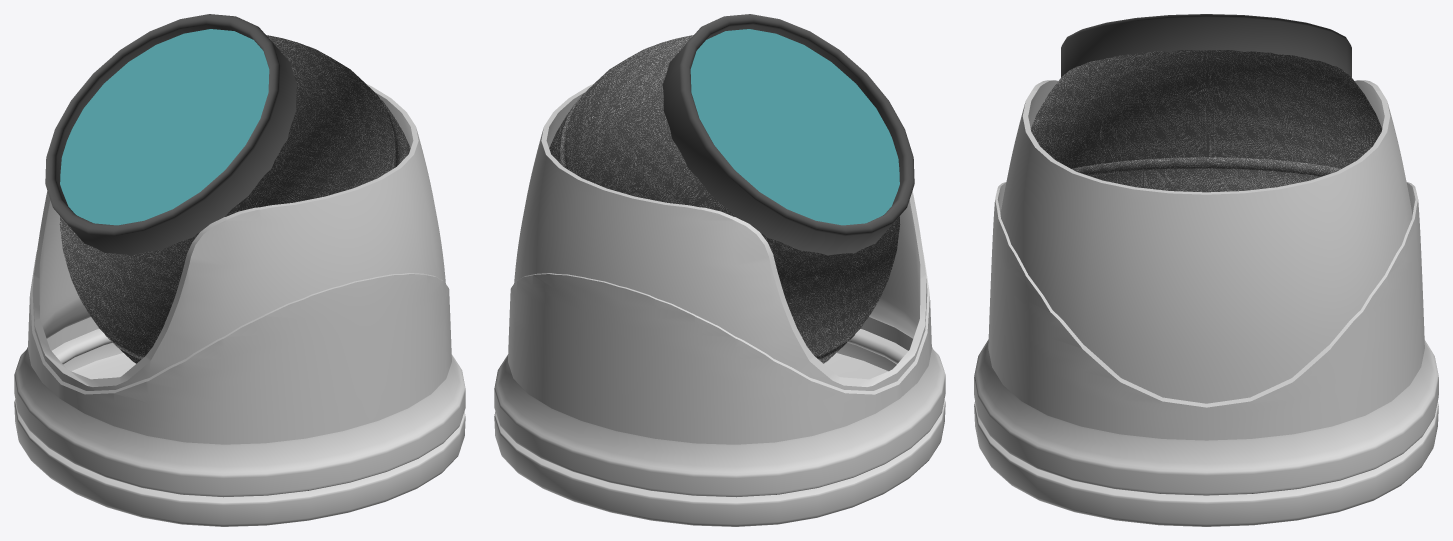
The model's file is Camera_1.fbx.
3 views of the same model, side by side, from view 1: azimuth 30°, elevation 25°; view 2: azimuth 150°, elevation 25°; view 3: azimuth 270°, elevation 25° (orthographic). The views are drawn at different scales.
Parts seen in each view (by area): view 1: Camera_1_1_LOD0, Camera_1_2_LOD0, Camera_1_flip_LOD0; view 2: Camera_1_1_LOD0, Camera_1_2_LOD0, Camera_1_flip_LOD0; view 3: Camera_1_1_LOD0, Camera_1_2_LOD0, Camera_1_flip_LOD0.
Boxes of the visible parts, x1,y1,x2,y2 form: Camera_1_1_LOD0: [14, 84, 465, 526]; Camera_1_2_LOD0: [45, 14, 410, 363]; Camera_1_flip_LOD0: [60, 37, 410, 361]; Camera_1_1_LOD0: [494, 84, 945, 526]; Camera_1_2_LOD0: [549, 14, 914, 363]; Camera_1_flip_LOD0: [550, 36, 899, 362]; Camera_1_1_LOD0: [974, 80, 1438, 526]; Camera_1_2_LOD0: [1030, 14, 1382, 192]; Camera_1_flip_LOD0: [1031, 50, 1381, 191].
Size of what is drawn, in the model's own units: 5.55 by 5.65 by 5.55.
